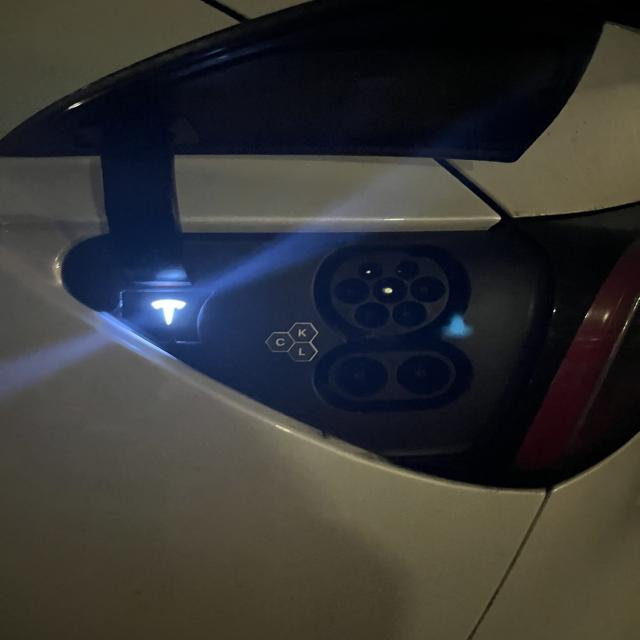inlet: (330, 256, 449, 335)
inlet-above-left: (357, 261, 383, 280)
inlet-above-right: (395, 261, 420, 279)
inlet-below-left: (354, 302, 390, 328)
inlet-below-right: (392, 301, 427, 327)
inlet-circle: (372, 278, 408, 303)
inlet-circle-left: (334, 278, 370, 304)
inlet-circle-right: (409, 276, 446, 302)
inlet-minus: (396, 355, 451, 394)
inlet-plus: (335, 357, 388, 396)
